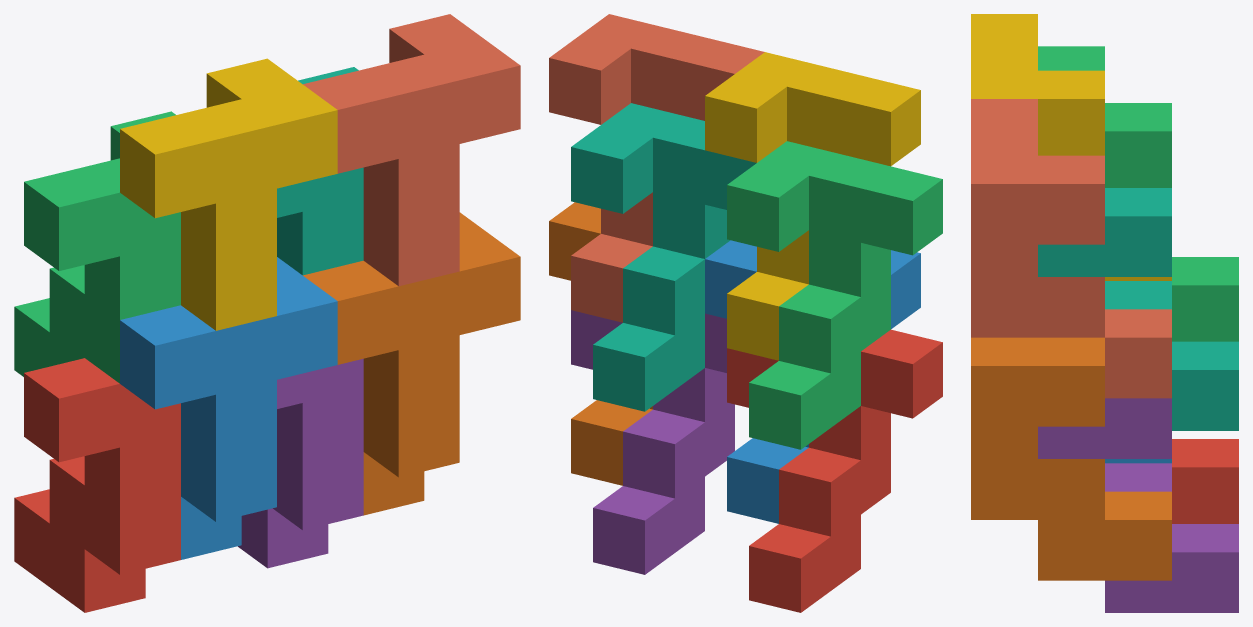
Rendered from tiling.obj.
The picture shows the model from 3 angles, left to right: view 1: azimuth 30°, elevation 25°; view 2: azimuth 150°, elevation 25°; view 3: azimuth 270°, elevation 25°; orthographic projection. The views are drawn at different scales.
Parts seen in each view (by area): view 1: copy_1_domain_4, copy_1_domain_1, copy_1_domain_8, copy_1_domain_2, copy_1_domain_6, copy_1_domain_3, copy_1_domain_5, copy_1_domain_7; view 2: copy_1_domain_3, copy_1_domain_7, copy_1_domain_1, copy_1_domain_4, copy_1_domain_8, copy_1_domain_5, copy_1_domain_2, copy_1_domain_6; view 3: copy_1_domain_6, copy_1_domain_8, copy_1_domain_5, copy_1_domain_7, copy_1_domain_3, copy_1_domain_4, copy_1_domain_1.
Part boxes in pixels (<box>): copy_1_domain_4: <box>120,58,337,330</box>; copy_1_domain_1: <box>14,358,180,612</box>; copy_1_domain_8: <box>303,14,520,286</box>; copy_1_domain_2: <box>120,257,337,559</box>; copy_1_domain_6: <box>303,212,520,515</box>; copy_1_domain_3: <box>14,111,180,383</box>; copy_1_domain_5: <box>238,358,363,568</box>; copy_1_domain_7: <box>277,67,363,275</box>; copy_1_domain_3: <box>727,141,942,449</box>; copy_1_domain_7: <box>571,103,756,411</box>; copy_1_domain_1: <box>727,329,942,612</box>; copy_1_domain_4: <box>705,52,920,360</box>; copy_1_domain_8: <box>549,14,764,322</box>; copy_1_domain_5: <box>571,310,734,574</box>; copy_1_domain_2: <box>705,240,920,523</box>; copy_1_domain_6: <box>549,202,652,485</box>; copy_1_domain_6: <box>971,337,1171,580</box>; copy_1_domain_8: <box>971,99,1171,398</box>; copy_1_domain_5: <box>1038,398,1238,612</box>; copy_1_domain_7: <box>1038,188,1238,430</box>; copy_1_domain_3: <box>1038,46,1238,341</box>; copy_1_domain_4: <box>971,14,1171,280</box>; copy_1_domain_1: <box>1172,439,1238,523</box>.
Size of the model in its own units: 7 by 8 by 4.
